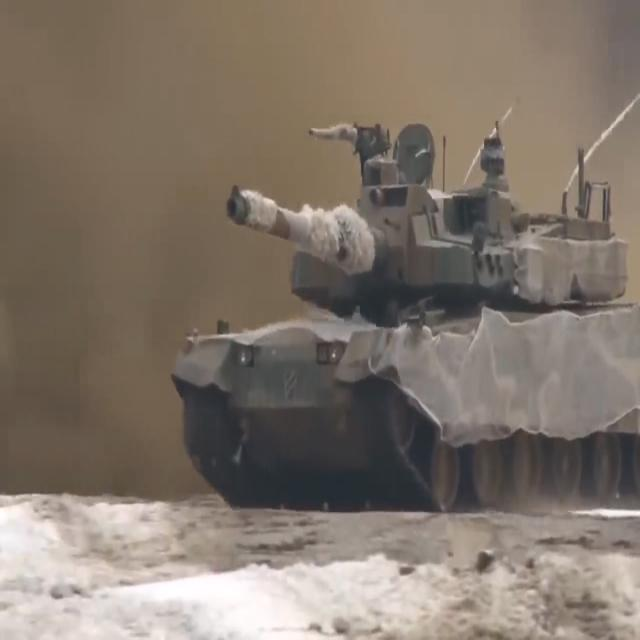korea tank: (168, 115, 640, 513)
